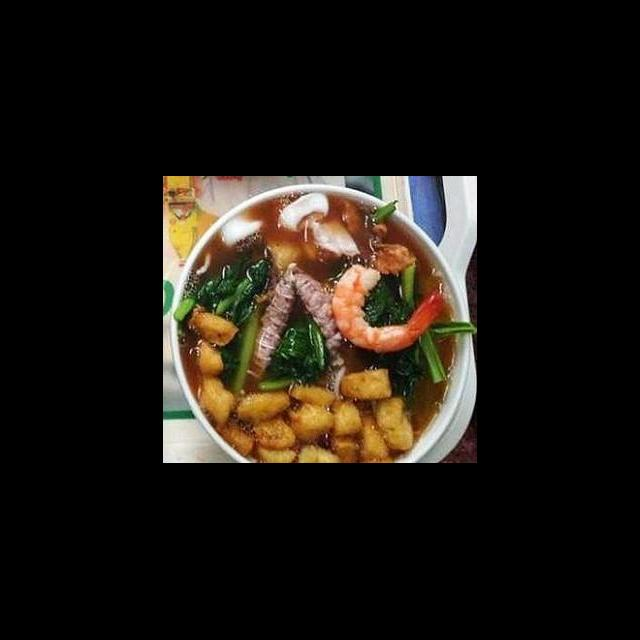dau hu: (195, 366, 416, 464), (183, 306, 240, 376)
muc: (276, 188, 332, 236), (215, 210, 267, 252)
tom: (329, 262, 448, 358)
tom tit: (243, 258, 307, 384), (287, 270, 352, 358)
